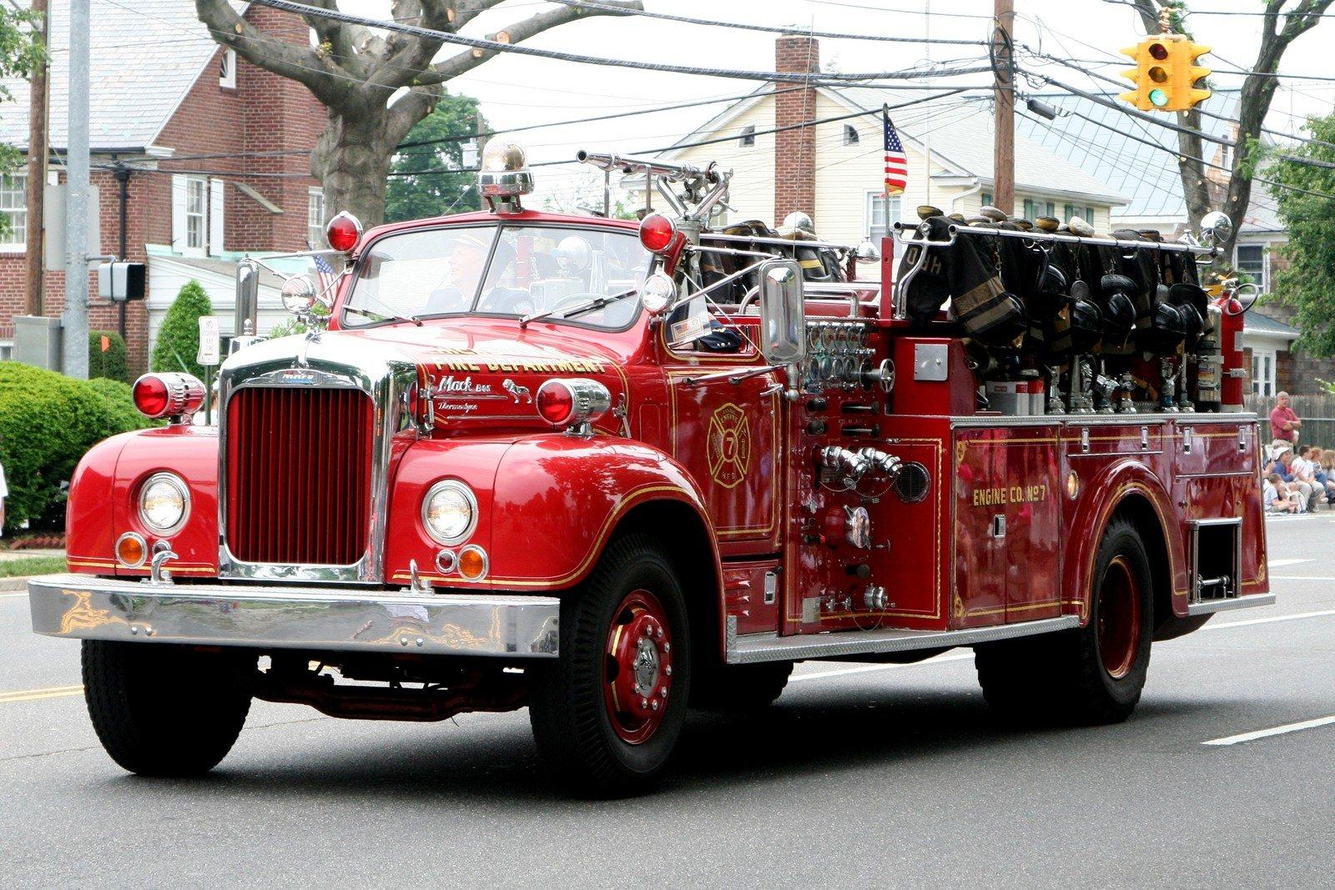Fire-engine: (27, 138, 1276, 795)
